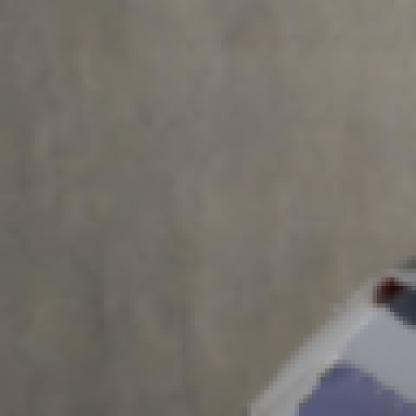Car: (239, 225, 416, 416)
